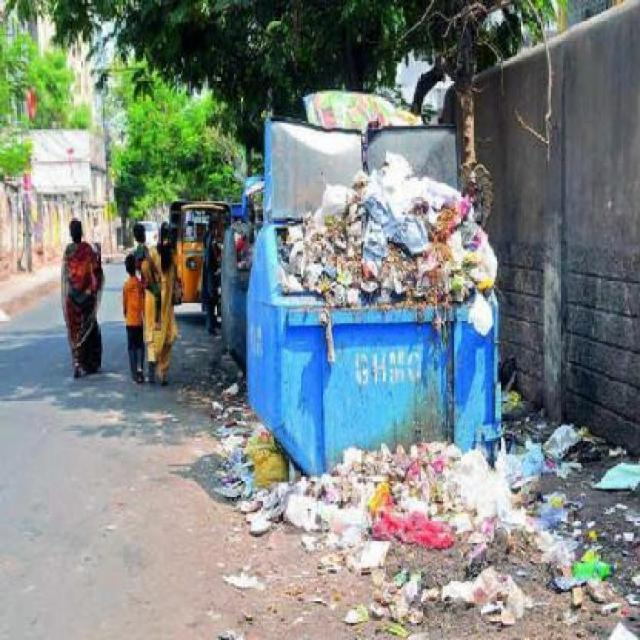garbage: (237, 430, 517, 559), (279, 160, 489, 306)
